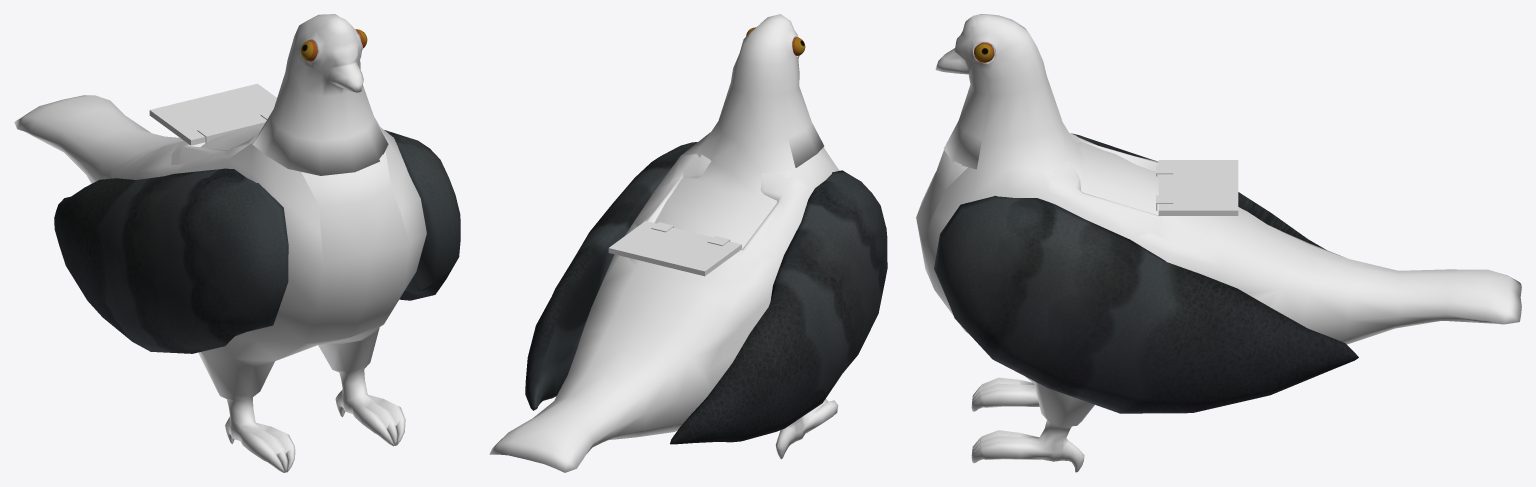
The model's file is all2.fbx.
3 views of the same model, side by side, from view 1: azimuth 30°, elevation 25°; view 2: azimuth 150°, elevation 25°; view 3: azimuth 270°, elevation 25° (orthographic). The views are drawn at different scales.
Visible parts, largest first — view 1: pigeon LOW POLY wings apart, pigeon wings.002, pigeon head., pigeon wings, klapa, pigeon battery place; view 2: pigeon LOW POLY wings apart, pigeon wings.002, pigeon wings, pigeon battery place, klapa, pigeon head.; view 3: pigeon wings, pigeon LOW POLY wings apart, pigeon battery place, klapa, pigeon head., pigeon wings.002.
Part boxes in pixels (x1,y1,x2,y2): pigeon LOW POLY wings apart: (14, 14, 426, 472); pigeon wings.002: (54, 168, 288, 353); pigeon head.: (252, 17, 388, 175); pigeon wings: (384, 130, 460, 300); klapa: (149, 83, 276, 145); pigeon battery place: (171, 132, 391, 206); pigeon LOW POLY wings apart: (489, 14, 839, 472); pigeon wings.002: (670, 170, 887, 444); pigeon wings: (525, 142, 697, 410); pigeon battery place: (629, 154, 808, 282); klapa: (608, 221, 741, 276); pigeon head.: (767, 14, 824, 167); pigeon wings: (934, 195, 1358, 413); pigeon LOW POLY wings apart: (916, 14, 1521, 472); pigeon battery place: (934, 133, 1214, 241); klapa: (1158, 160, 1238, 215); pigeon head.: (935, 14, 998, 169); pigeon wings.002: (1071, 133, 1325, 249).
Bounding box in the file's own units: 66.39 × 126 × 98.96.
